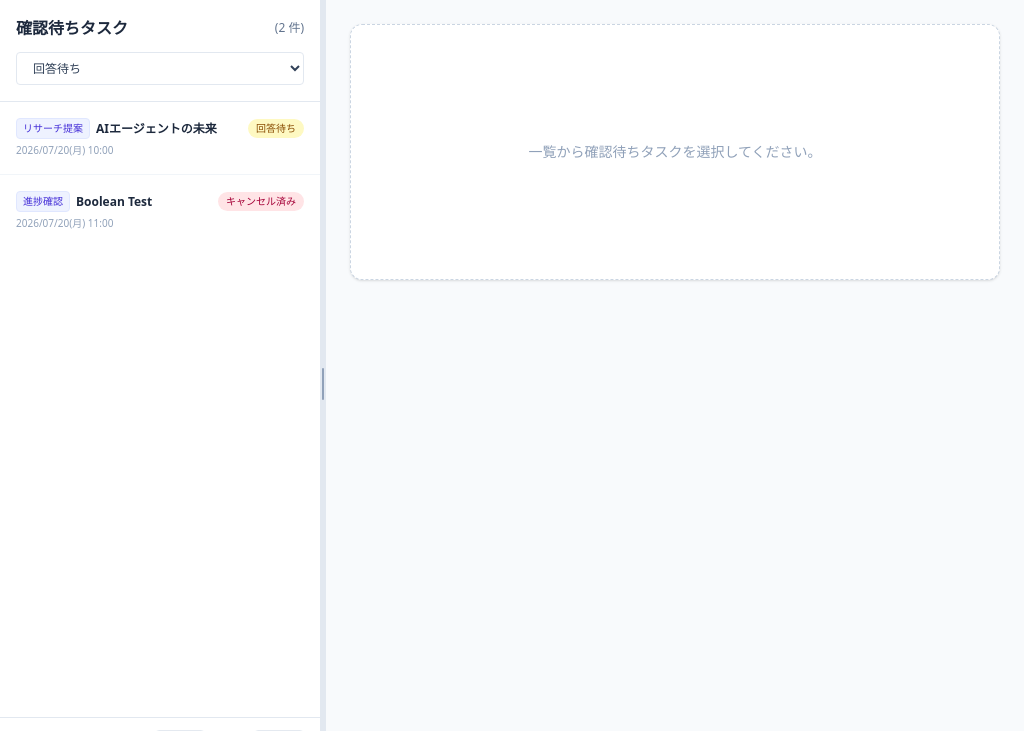
Test: HitlPage › calendar/reminder context rendering › renders reminder due_date via formatDateTime when value is not YMD-shaped
This screenshot has width=1024, height=731.
Click the text "AIエージェントの未来" at (156, 128), box [96,120,217,136]
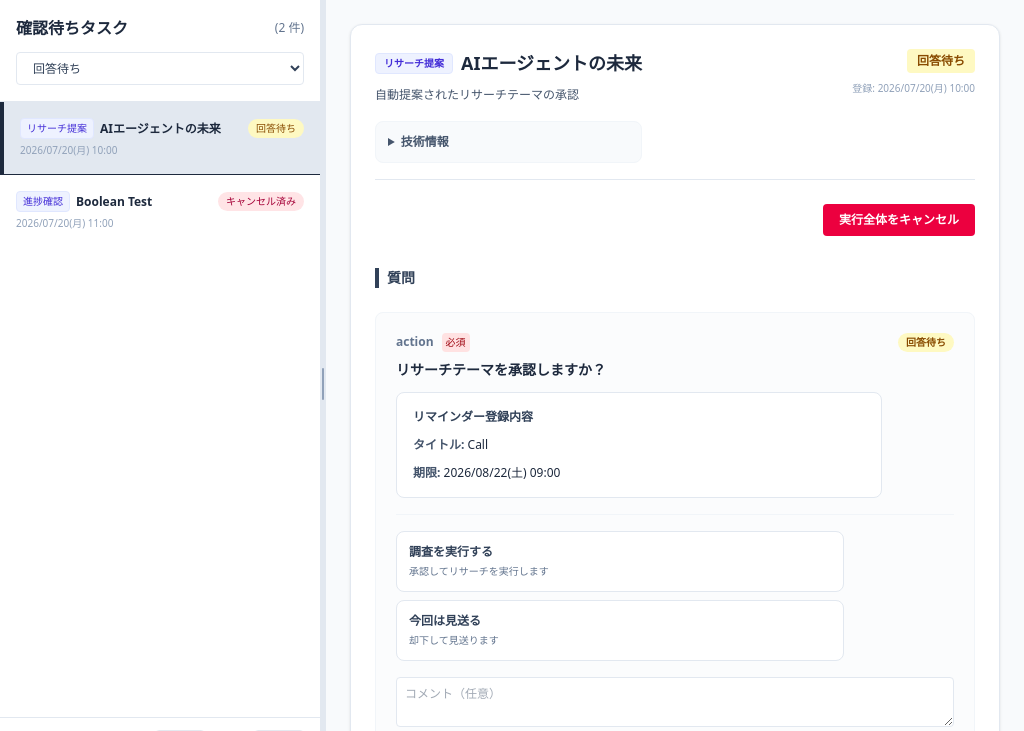
Now the element with test id "reminder-context" reads "リマインダー登録内容 タイトル: Call 期限: 2026/08/22(土) 09:00", box [396,392,882,498]
